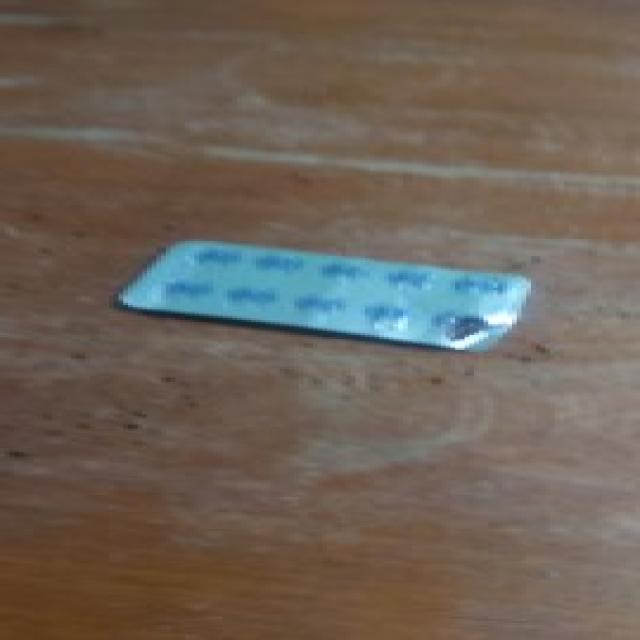Cacat: (110, 235, 536, 358)
Kemasan: (429, 309, 507, 344)
